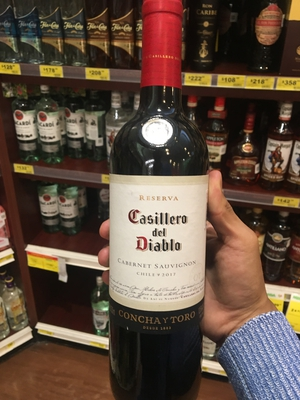casillero del diablo cabernet sauvignon: (106, 7, 208, 394)
